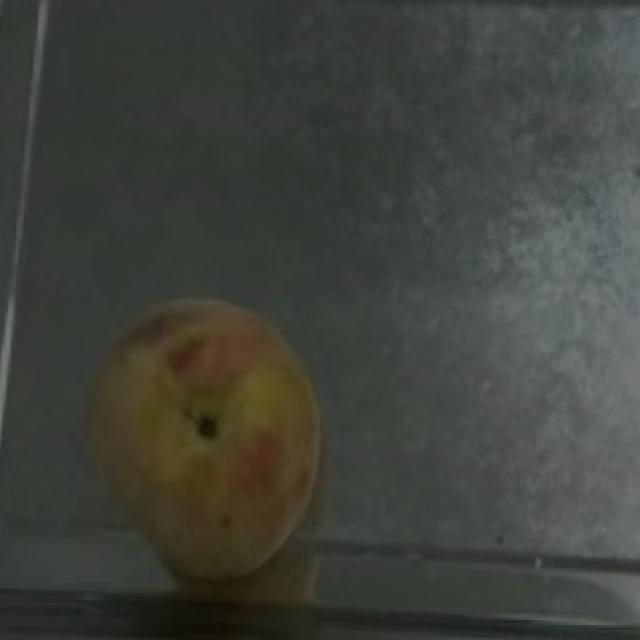Fruit: (64, 278, 336, 593)
